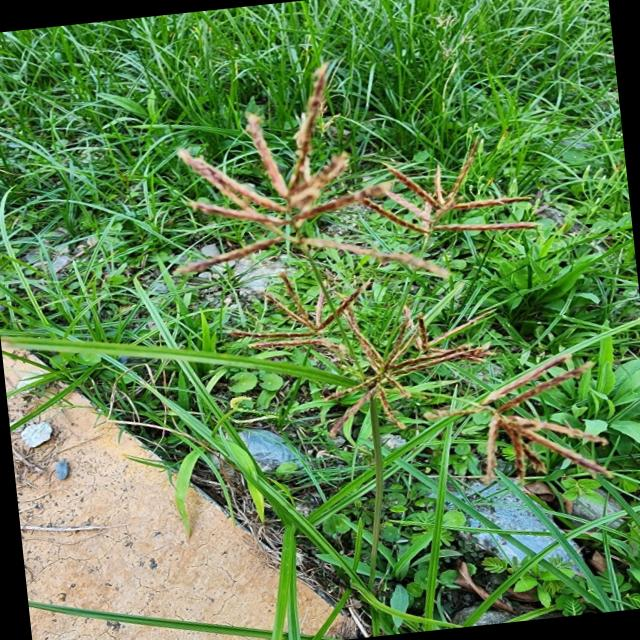cyperus: (146, 42, 559, 452), (148, 61, 368, 280), (222, 240, 478, 423), (439, 348, 622, 504), (384, 138, 554, 262)
